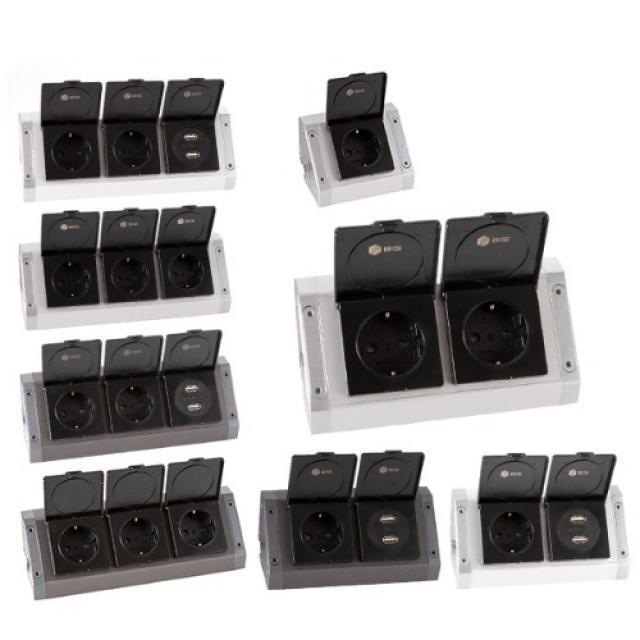typeb: (282, 232, 593, 437), (288, 90, 443, 211)
